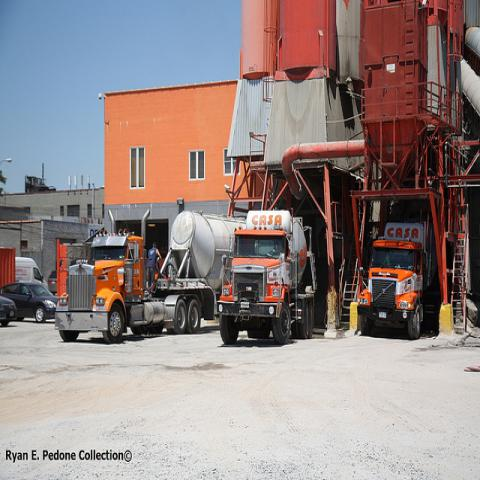car: (2, 284, 57, 324), (0, 297, 17, 326), (48, 271, 58, 292)
truck: (54, 209, 245, 345), (217, 208, 319, 346), (356, 214, 440, 339), (0, 246, 51, 289)
